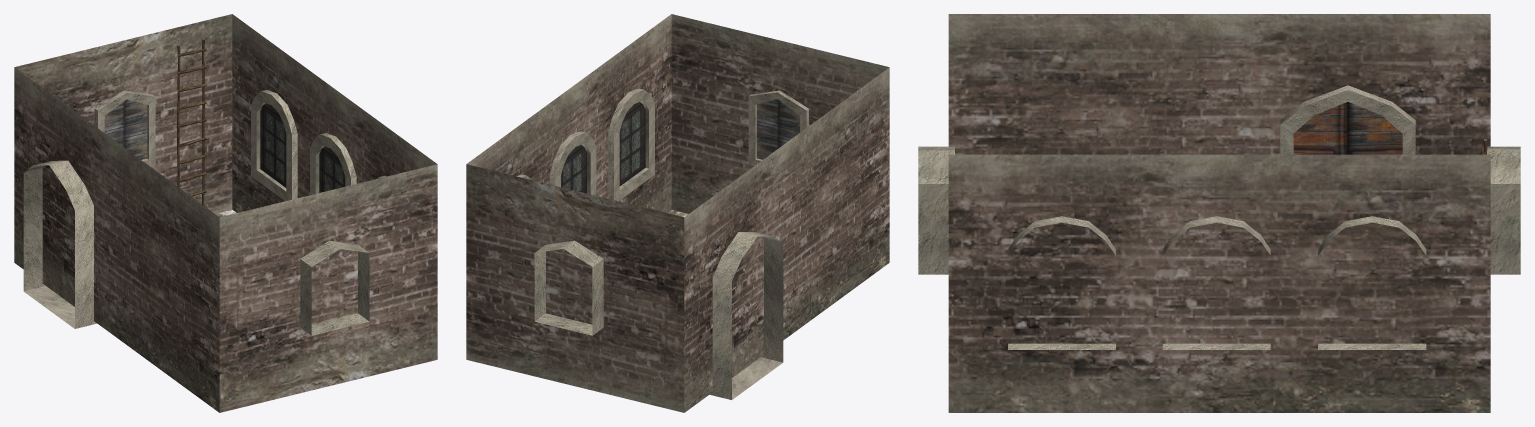
Rendered from shop_1.2ndfloor.interior.fbx.
The picture shows the model from 3 angles, left to right: view 1: azimuth 30°, elevation 25°; view 2: azimuth 150°, elevation 25°; view 3: azimuth 270°, elevation 25°; orthographic projection. The views are drawn at different scales.
Visible parts, largest first — view 1: house_3.005, woodlongladder_1.002; view 2: house_3.005; view 3: house_3.005.
Part boxes in pixels (box(x1,y1,x2,y2)): house_3.005: box(14, 14, 437, 412); woodlongladder_1.002: box(177, 38, 206, 205); house_3.005: box(466, 14, 889, 412); house_3.005: box(918, 14, 1520, 412).
Size of the model in its own units: 4.71 by 3.62 by 7.52.
